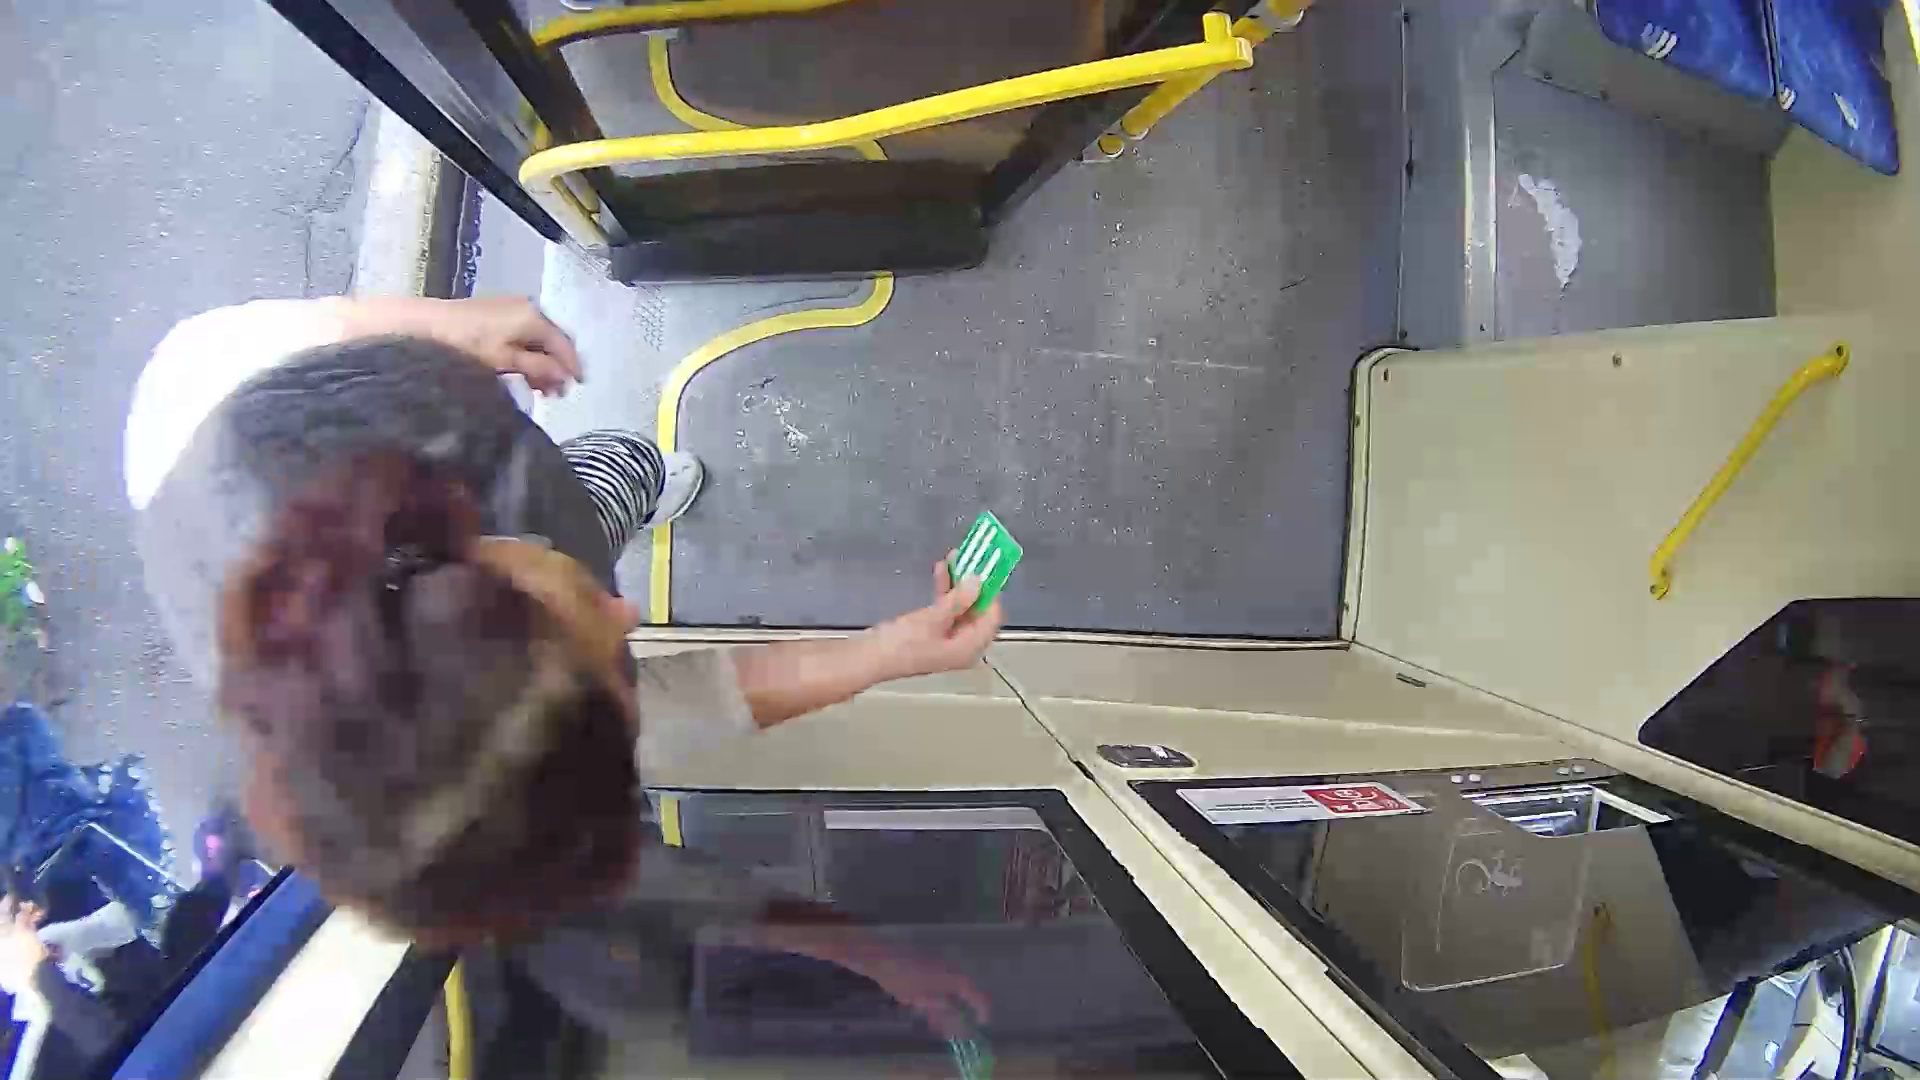person: (89, 240, 1121, 950)
